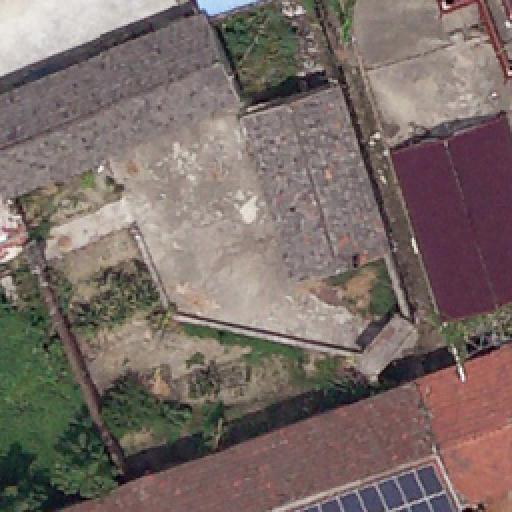solar-panel: (300, 464, 456, 512)
